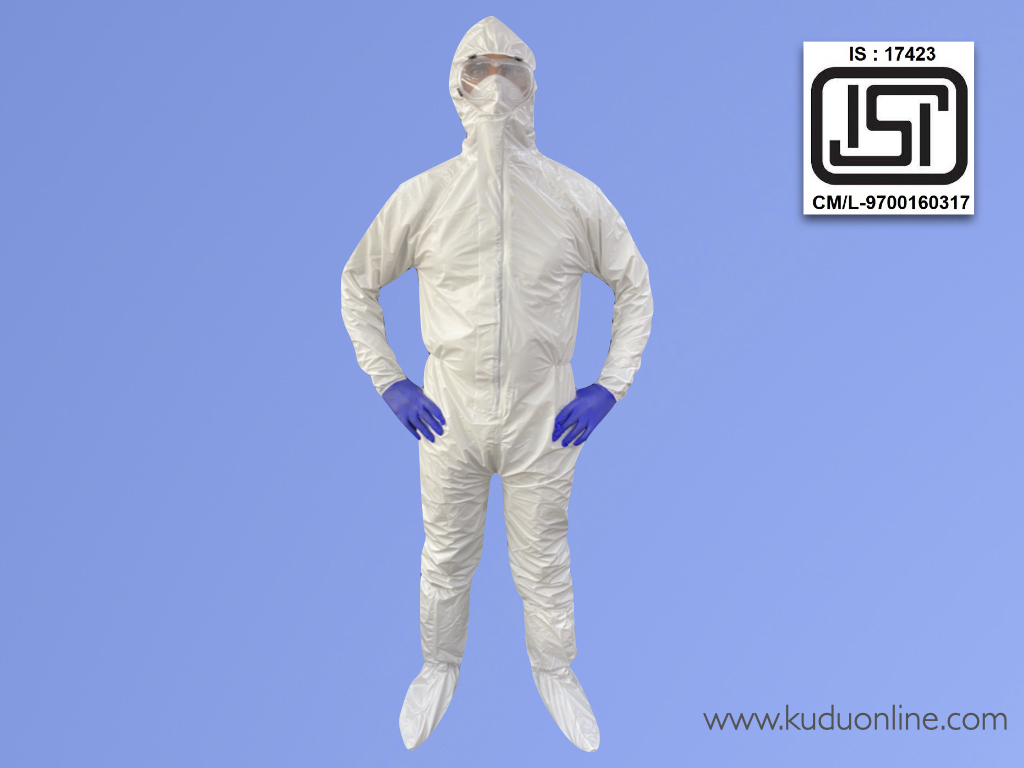Coverall: (346, 10, 654, 682)
Gloves: (376, 378, 453, 445), (550, 382, 617, 452)
Goggles: (447, 53, 537, 95)
with_mask: (463, 64, 527, 124)
